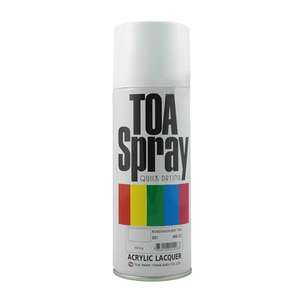Aerosol_cans: (108, 18, 196, 284)
